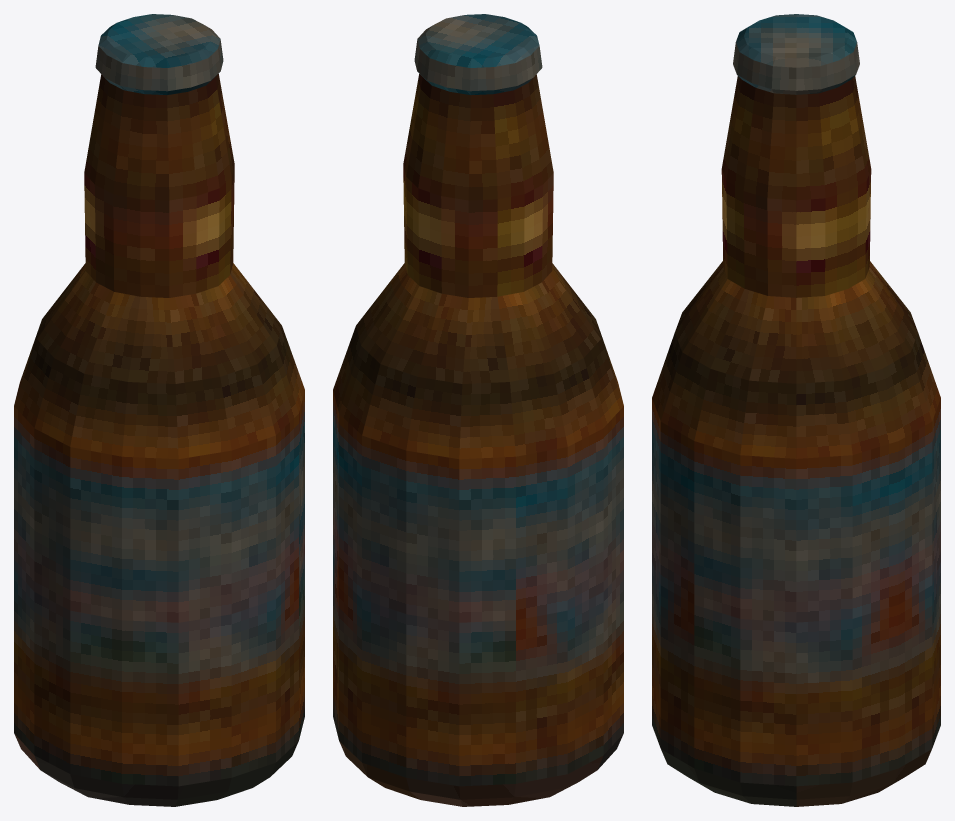
3 renders of one model, left to right at view 1: azimuth 30°, elevation 25°; view 2: azimuth 150°, elevation 25°; view 3: azimuth 270°, elevation 25°, orthographic.
Parts seen in each view (by area): view 1: glass_bottle_1; view 2: glass_bottle_1; view 3: glass_bottle_1.
Part boxes in pixels (left/top/right/bottom): glass_bottle_1: left=14, top=14, right=304, bottom=806; glass_bottle_1: left=333, top=14, right=623, bottom=806; glass_bottle_1: left=652, top=14, right=940, bottom=806.
Bounding box in the file's own units: 0.144 × 0.3969 × 0.144.
Materials: 1 (1 with a texture image).
